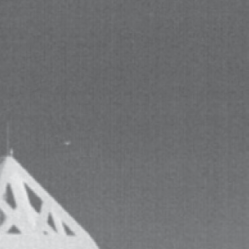Target: (67, 142, 69, 144)
